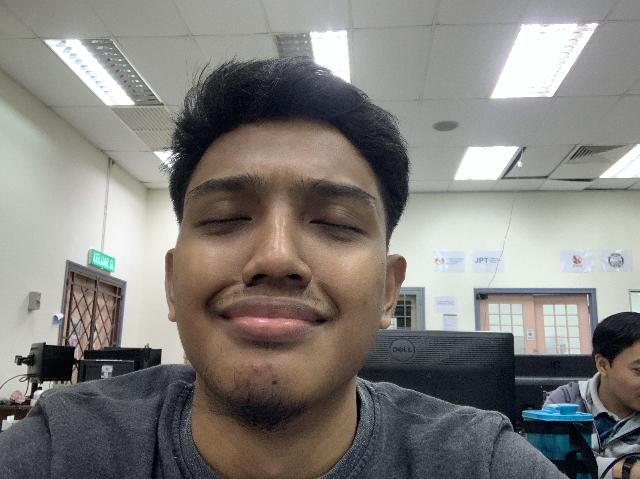senang: (151, 138, 390, 410)
